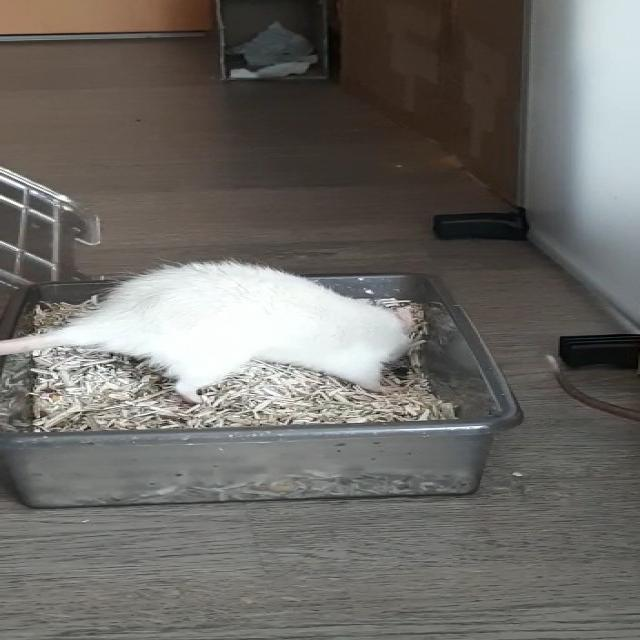rat: (97, 253, 415, 398)
